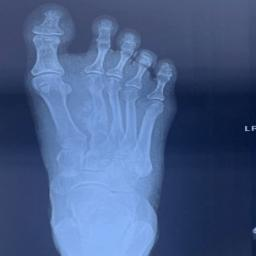cancer: (72, 83, 108, 149)
